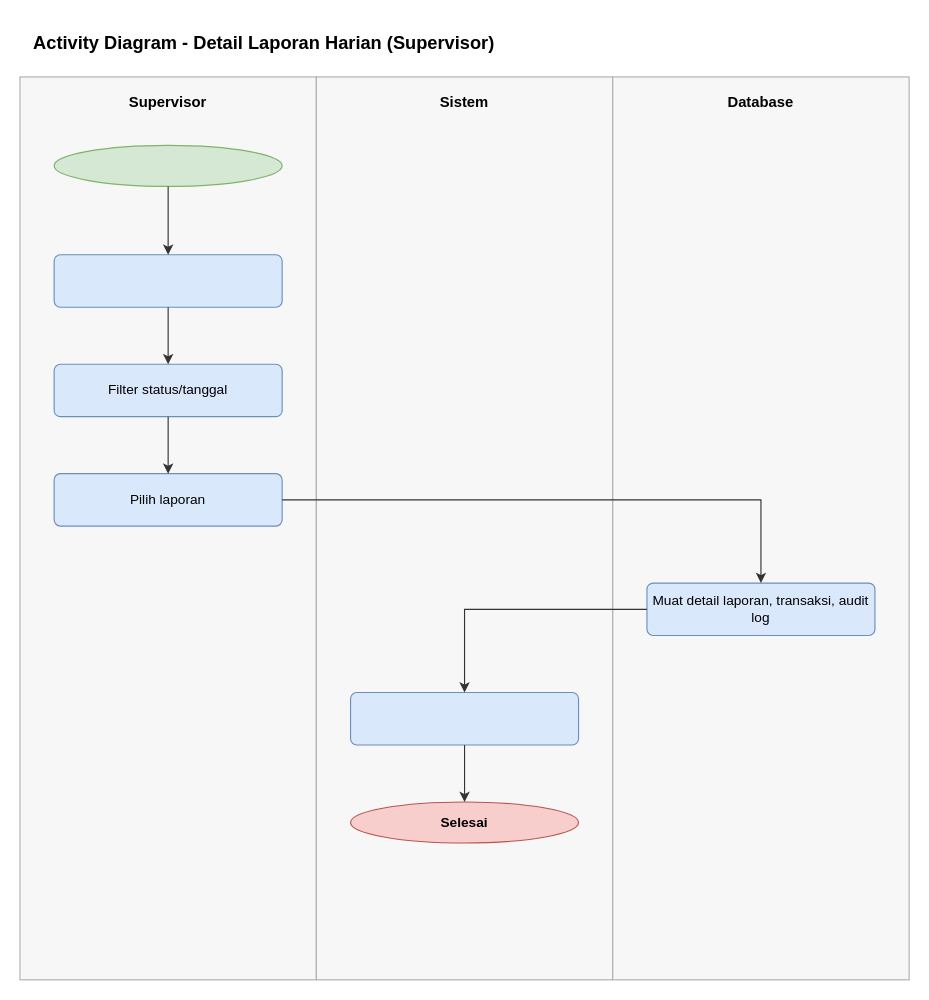
Image size: 929x1000. Some labels were removed from this diagram. The box of each missing label's shape, as (x1, y1, x2, y2) in pixels:
Buka daftar laporan harian: (53, 254, 282, 307)
Mulai: (53, 144, 282, 186)
Tampilkan perbandingan sistem vs fisik vs selisih: (349, 691, 579, 745)
